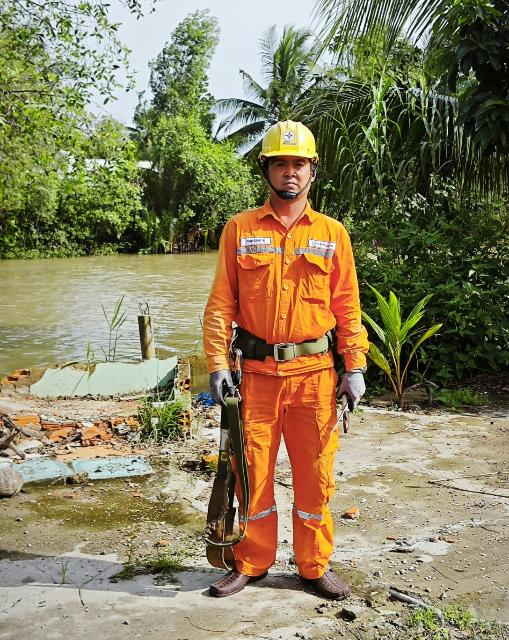gloves: (207, 367, 246, 410), (337, 367, 368, 411)
harness: (227, 322, 342, 363)
helmet: (252, 120, 327, 162)
shoes: (297, 537, 351, 604), (211, 565, 276, 600)
